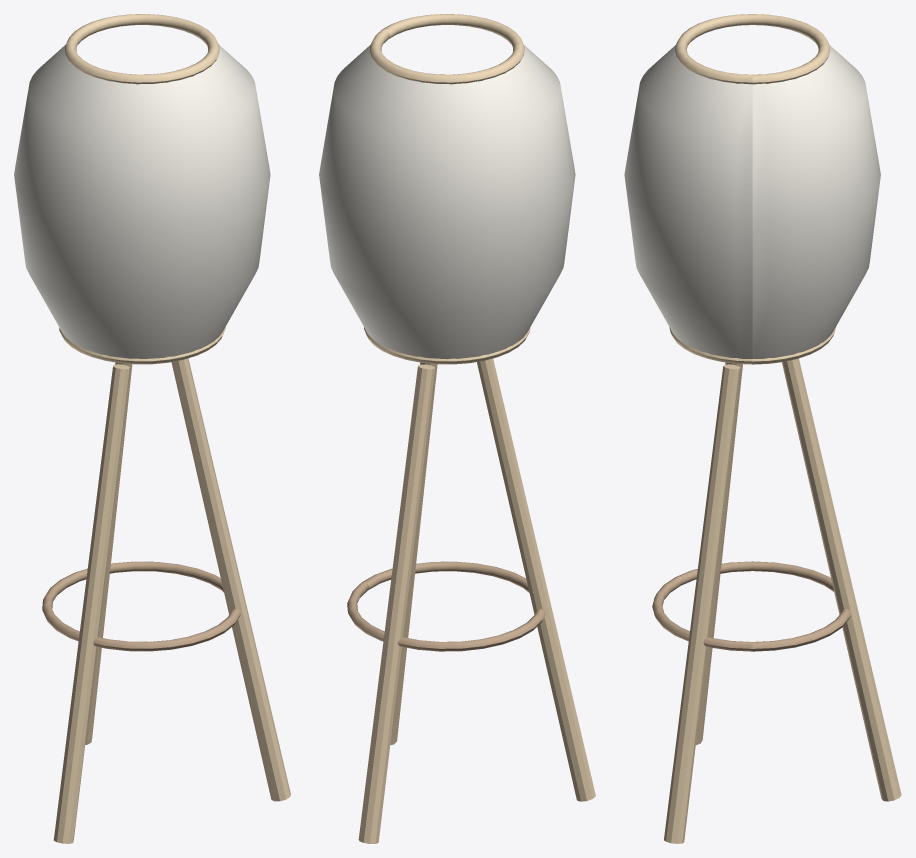
File: jelly-friends-playroom-paper-lantern-lamp-cbe82a73__27645.glb
3 views of the same model, side by side, from view 1: azimuth 30°, elevation 25°; view 2: azimuth 150°, elevation 25°; view 3: azimuth 270°, elevation 25° (orthographic).
Visible parts, largest first — view 1: paper-lantern-lamp; view 2: paper-lantern-lamp; view 3: paper-lantern-lamp.
Part boxes in pixels (left/top/right/bottom): paper-lantern-lamp: left=14, top=14, right=290, bottom=843; paper-lantern-lamp: left=319, top=14, right=595, bottom=843; paper-lantern-lamp: left=624, top=14, right=901, bottom=843.
Bounding box in the file's own units: 0.3594 × 1.13 × 0.3782.
